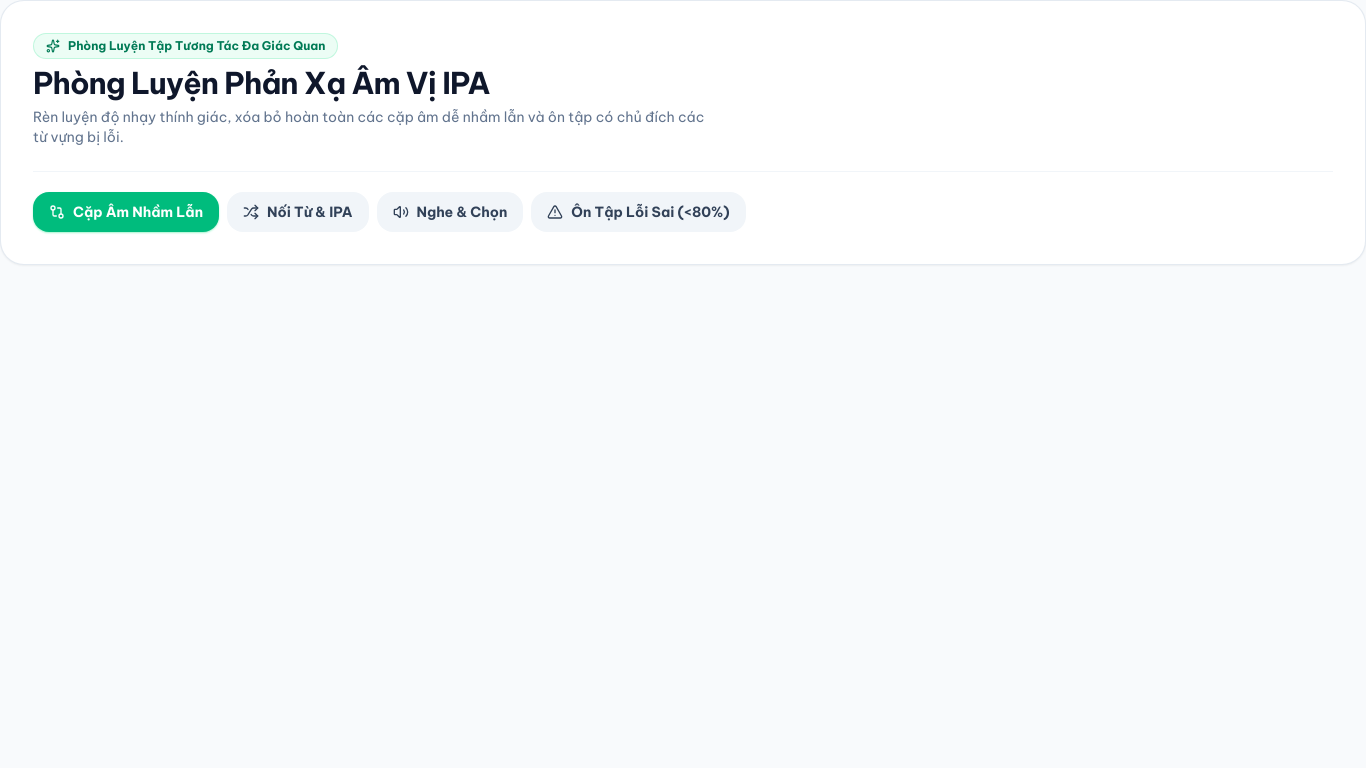
IPA Module Frontend UI/UX Acceptance Suite › IPA-04: Practice studio renders all 4 training modes and allows switching
The image size is (1366, 768).
Expected: the text "Cặp Âm Nhầm Lẫn" is shown, [73, 202, 203, 222]
Expected: the text "Nối Từ & IPA" is shown, [267, 202, 352, 222]
// Switch to Nối Từ & IPA
Step 1. Click the button "Nối Từ & IPA" → (298, 212), box [227, 192, 368, 232]
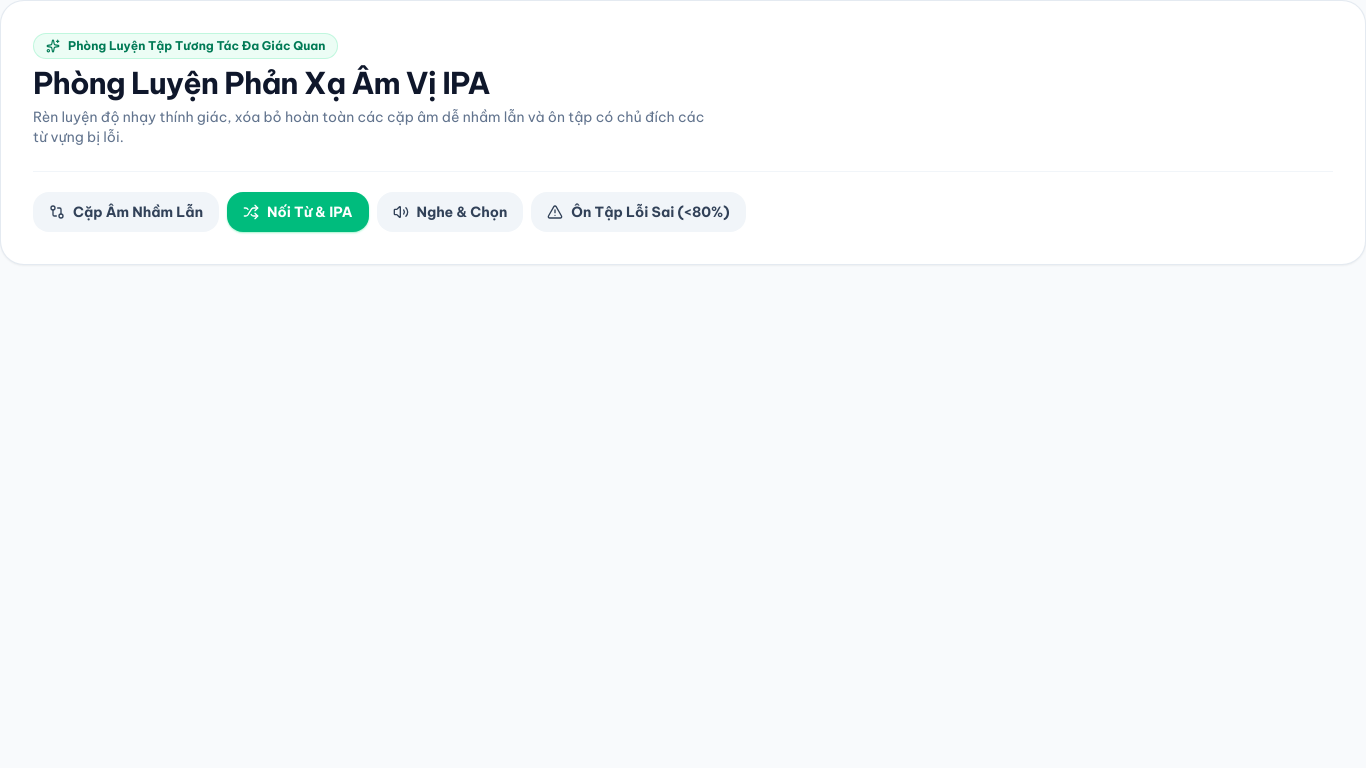
// Switch to Ôn Tập Lỗi Sai
Step 2. Click the button "Ôn Tập Lỗi Sai (<80%)" → (638, 212), box [531, 192, 746, 232]
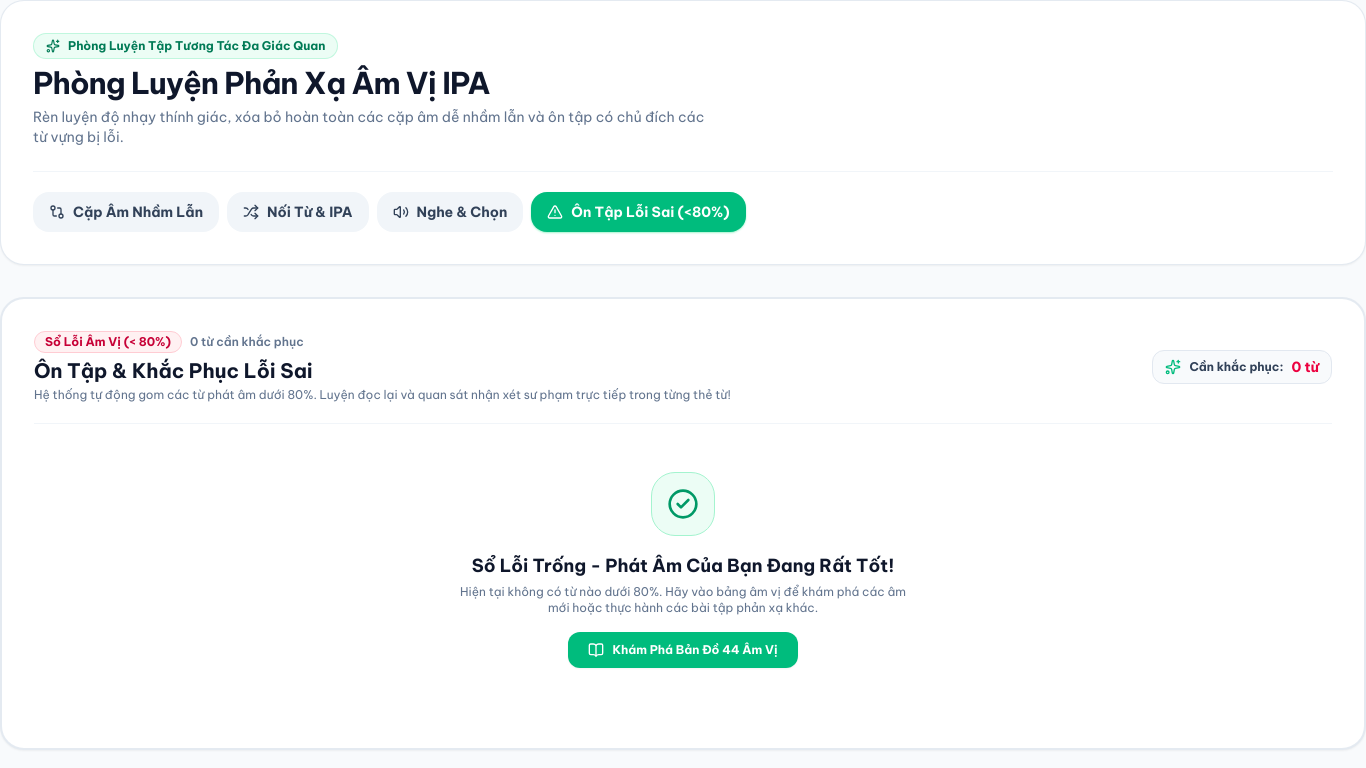
Result: the heading "Ôn Tập & Khắc Phục Lỗi Sai" is shown at [34, 358, 313, 383]
